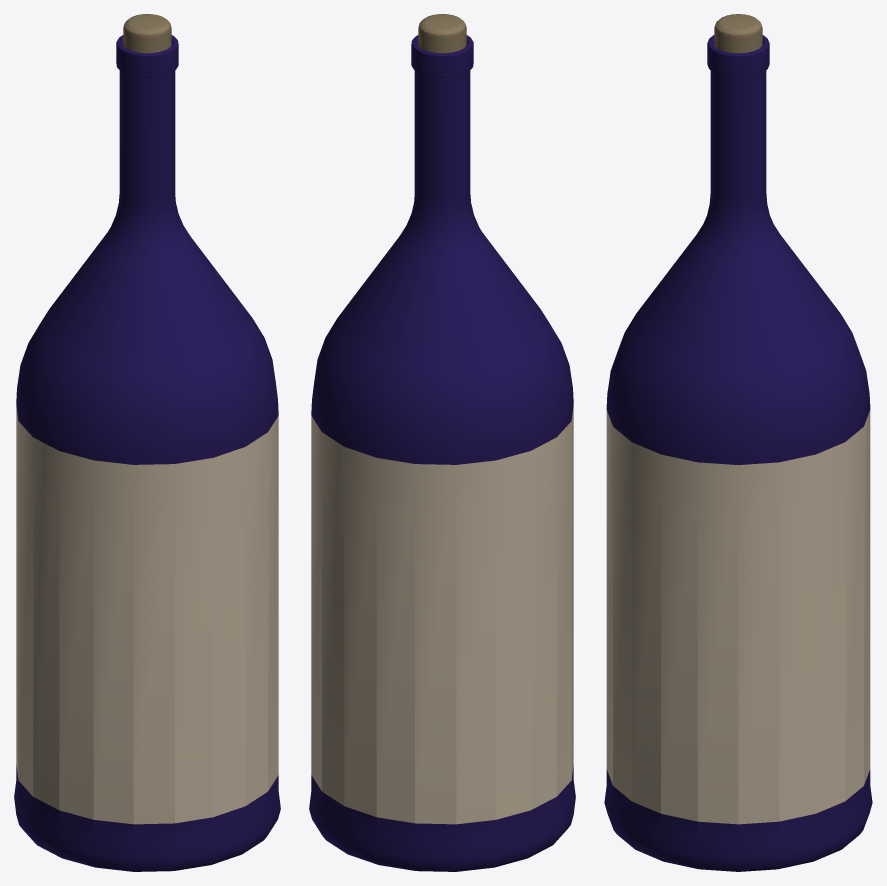
Rendered from blue_glass_bottle.fbx.
The picture shows the model from 3 angles, left to right: view 1: azimuth 30°, elevation 25°; view 2: azimuth 150°, elevation 25°; view 3: azimuth 270°, elevation 25°; orthographic projection.
Visible parts, largest first — view 1: bottle; view 2: bottle; view 3: bottle.
Part boxes in pixels (x1,y1,x2,y2): bottle: (14, 14, 280, 871); bottle: (309, 14, 575, 871); bottle: (604, 14, 872, 871).
Bounding box in the file's own units: 2.03 × 6.69 × 2.03.
